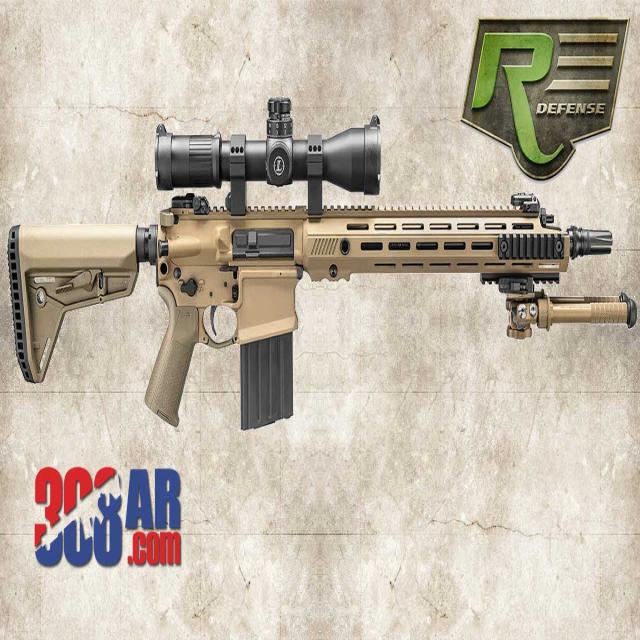Rifle: (7, 98, 614, 431)
